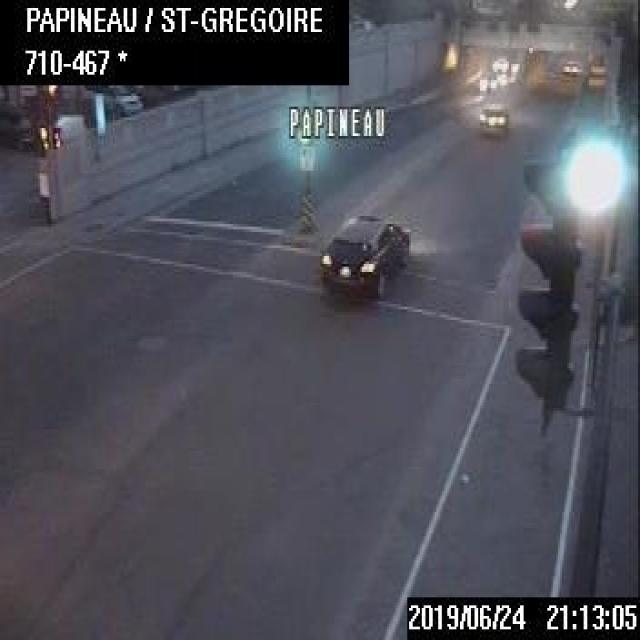vehicle: (318, 211, 411, 296), (99, 82, 143, 117), (476, 101, 509, 136), (488, 54, 509, 73), (478, 74, 496, 90), (560, 59, 578, 72)
